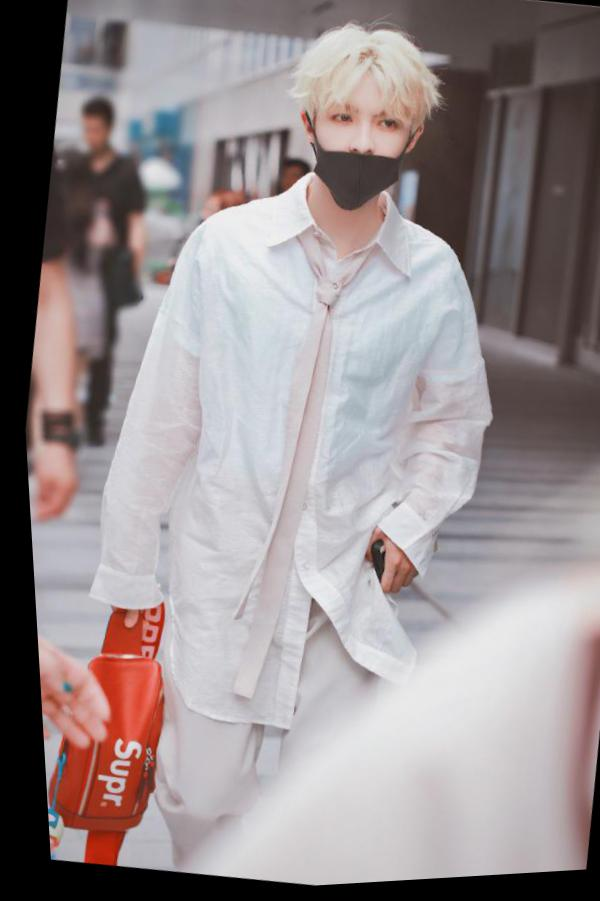WRONG: (300, 87, 417, 223)
